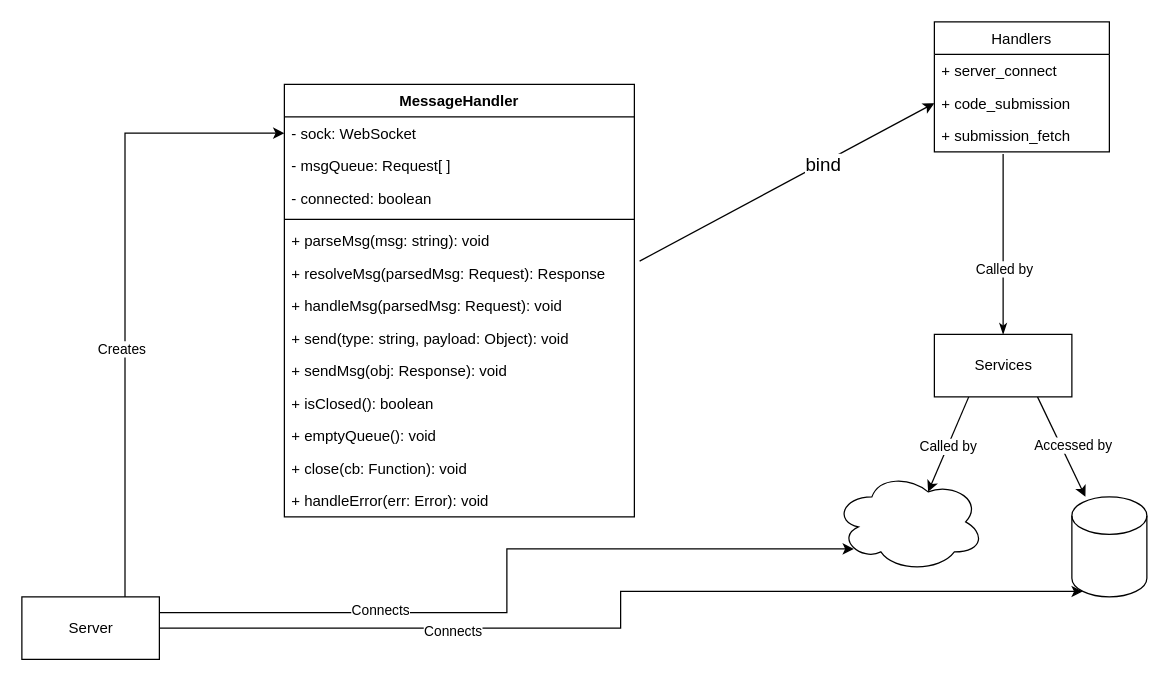
The diagram is 1169 pixels wide and 681 high, and some of its shapes have lost their labels. Each missing label, with the centre of its shape:
"Db" belongs at (1109,546).
"Docker API" belongs at (908,521).
